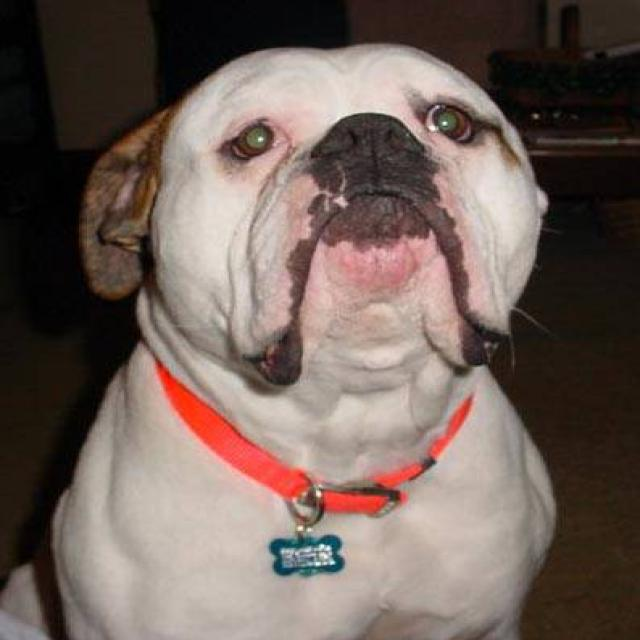sad: (42, 19, 610, 636)
